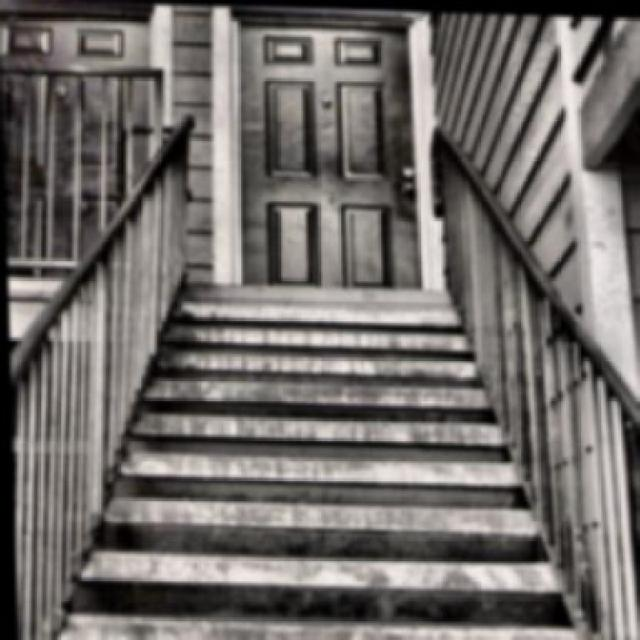stair: (134, 252, 466, 628)
